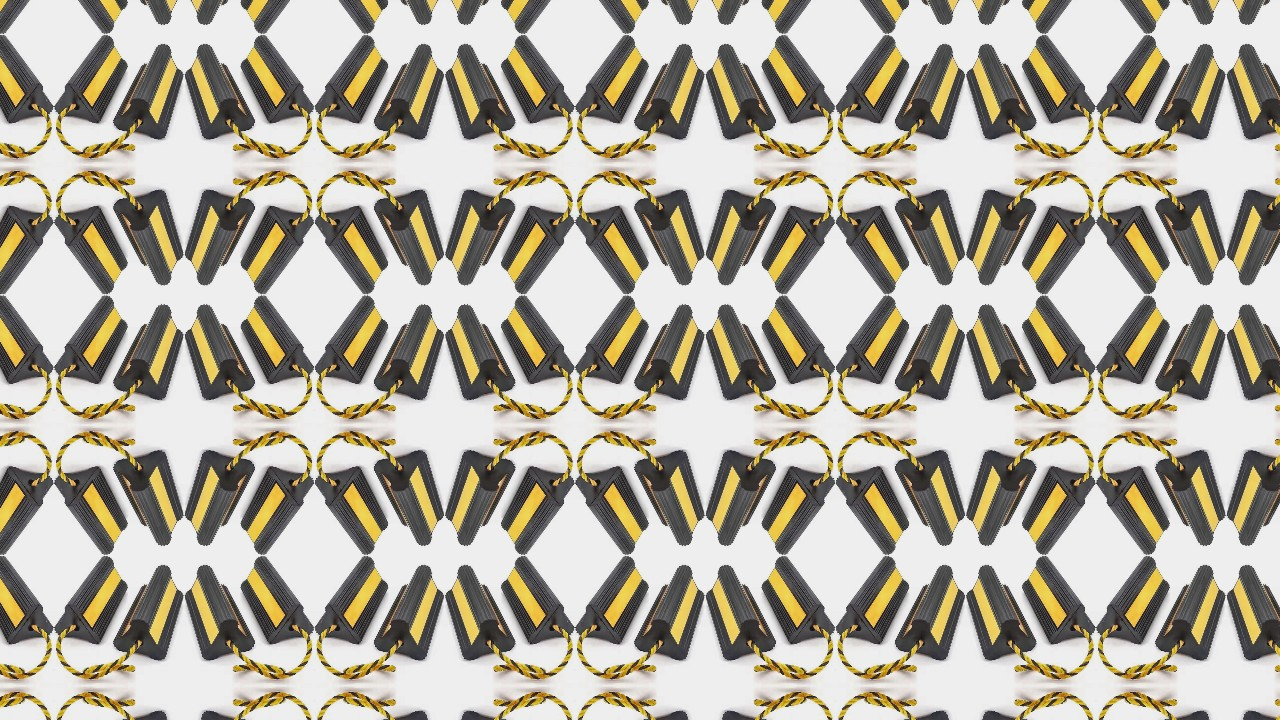chock: (184, 188, 255, 286), (445, 188, 516, 286), (706, 188, 777, 286), (967, 188, 1038, 286), (184, 449, 255, 547), (445, 449, 516, 547), (706, 449, 777, 547), (967, 449, 1038, 547), (184, 43, 255, 140), (445, 43, 516, 140), (706, 43, 777, 140), (967, 43, 1038, 140), (184, 304, 255, 401), (445, 304, 516, 401), (706, 304, 777, 401), (967, 304, 1038, 401), (184, 565, 255, 662), (445, 565, 516, 662), (706, 565, 777, 662), (967, 565, 1038, 662), (112, 188, 182, 286), (373, 188, 443, 286), (634, 188, 704, 286), (895, 188, 965, 286), (1156, 188, 1226, 286), (112, 449, 182, 547), (373, 449, 443, 547), (634, 449, 704, 547), (895, 449, 965, 547), (1156, 449, 1226, 547), (112, 43, 182, 140), (373, 43, 443, 140), (634, 43, 704, 140), (895, 43, 965, 140), (1156, 43, 1226, 140), (112, 304, 182, 401), (373, 304, 443, 401), (634, 304, 704, 401), (895, 304, 965, 401), (1156, 304, 1226, 401), (112, 565, 182, 662), (373, 565, 443, 662), (634, 565, 704, 662), (895, 565, 965, 662), (1156, 565, 1226, 662), (239, 34, 314, 123), (500, 34, 575, 123), (575, 34, 650, 123), (761, 34, 836, 123), (1022, 34, 1097, 123), (239, 206, 314, 295), (500, 206, 575, 295), (575, 206, 650, 295), (761, 206, 836, 295), (1022, 206, 1097, 295), (239, 295, 314, 384), (500, 295, 575, 384), (575, 295, 650, 384), (761, 295, 836, 384), (1022, 295, 1097, 384), (239, 467, 314, 556), (500, 467, 575, 556), (575, 467, 650, 556), (761, 467, 836, 556), (1022, 467, 1097, 556), (239, 556, 314, 645), (500, 556, 575, 645), (575, 556, 650, 645), (761, 556, 836, 645), (1022, 556, 1097, 645), (53, 34, 127, 123), (314, 34, 388, 123), (836, 34, 910, 123), (1097, 34, 1171, 123), (53, 206, 127, 295), (314, 206, 388, 295), (836, 206, 910, 295), (1097, 206, 1171, 295), (53, 295, 127, 384), (314, 295, 388, 384), (836, 295, 910, 384), (1097, 295, 1171, 384), (53, 467, 127, 556), (314, 467, 388, 556), (836, 467, 910, 556), (1097, 467, 1171, 556), (53, 556, 127, 645), (314, 556, 388, 645), (836, 556, 910, 645), (1097, 556, 1171, 645), (1228, 188, 1280, 286), (1228, 449, 1280, 547), (1228, 43, 1280, 140), (1228, 304, 1280, 401), (1228, 565, 1280, 662), (0, 34, 53, 123), (0, 206, 53, 295), (0, 295, 53, 384), (0, 467, 53, 556), (0, 556, 53, 645), (239, 0, 314, 34), (500, 0, 575, 34), (575, 0, 650, 34), (761, 0, 836, 34), (1022, 0, 1097, 34), (53, 0, 127, 34), (314, 0, 388, 34), (836, 0, 910, 34), (1097, 0, 1171, 34), (0, 0, 53, 34), (184, 0, 255, 25), (445, 0, 516, 25), (706, 0, 777, 25), (967, 0, 1038, 25), (112, 0, 182, 25), (373, 0, 443, 25), (634, 0, 704, 25), (895, 0, 965, 25), (1156, 0, 1226, 25), (1228, 0, 1280, 25), (184, 710, 255, 720), (445, 710, 516, 720), (706, 710, 777, 720), (967, 710, 1038, 720), (112, 710, 182, 720), (373, 710, 443, 720), (634, 710, 704, 720), (895, 710, 965, 720), (1156, 710, 1226, 720), (1228, 710, 1280, 720)
